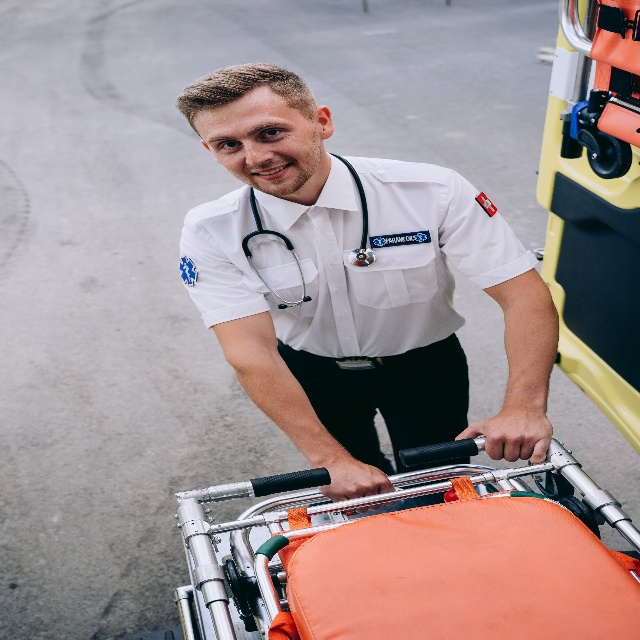Sin_guantes: (451, 418, 554, 461), (318, 456, 398, 497)
